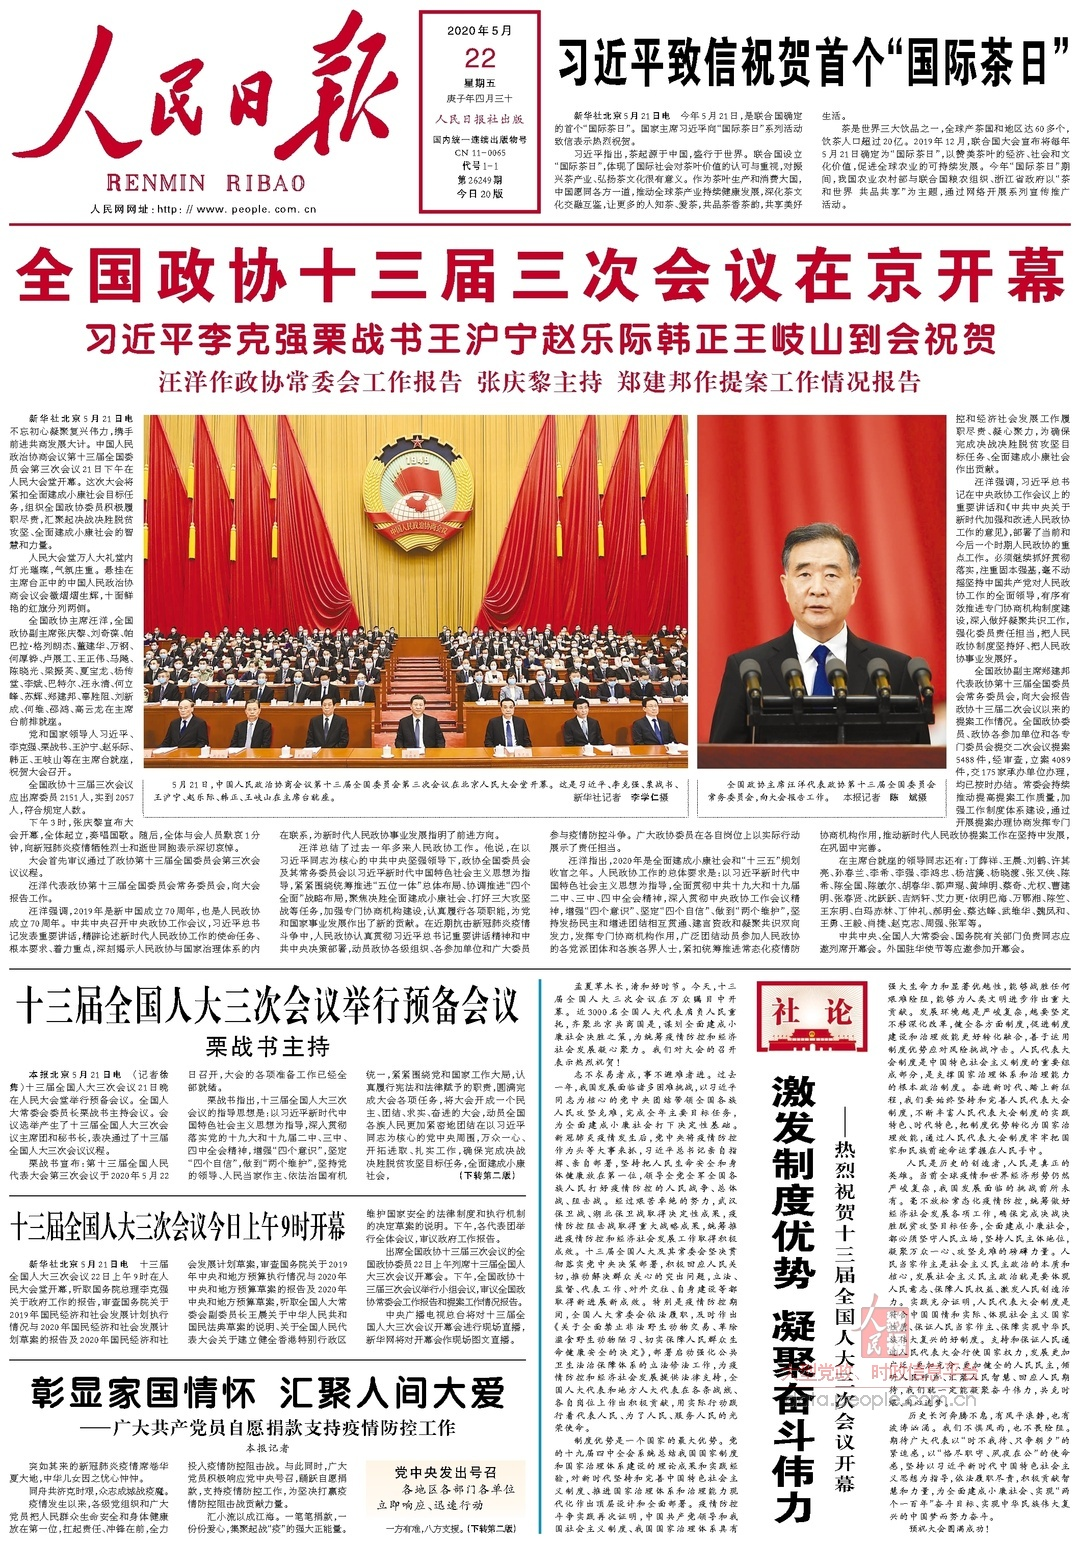pic: (140, 409, 692, 773), (692, 406, 950, 771)
